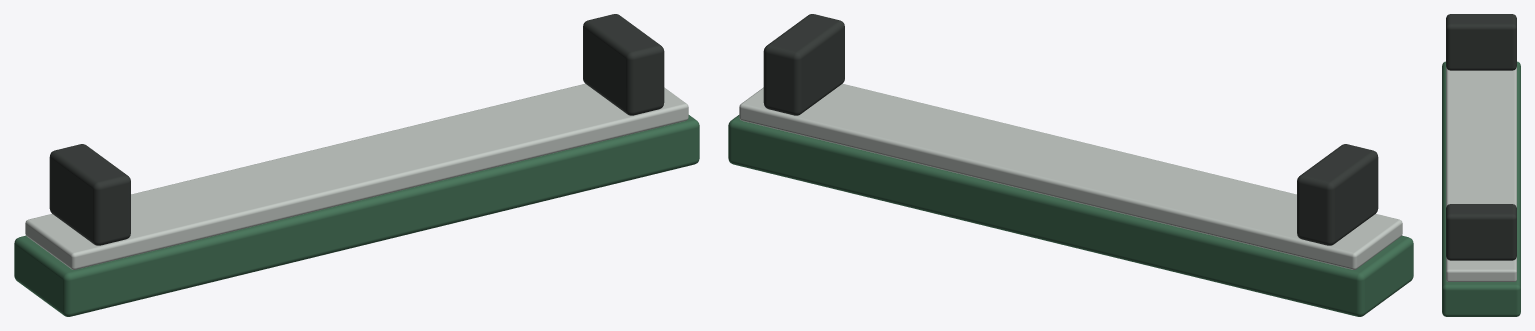
File: sawmill-and-timber-yard-log-bunk-d6fb0aba__31166.glb
The picture shows the model from 3 angles, left to right: view 1: azimuth 30°, elevation 25°; view 2: azimuth 150°, elevation 25°; view 3: azimuth 270°, elevation 25°; orthographic projection. The views are drawn at different scales.
Visible parts, largest first — view 1: log-bunk; view 2: log-bunk; view 3: log-bunk.
Boxes of the visible parts, box(x1,y1,x2,y2) form: log-bunk: box(14, 14, 699, 316); log-bunk: box(728, 14, 1413, 316); log-bunk: box(1442, 14, 1520, 316).
Size of the model in its own units: 1.36 by 0.255 by 0.2001.
